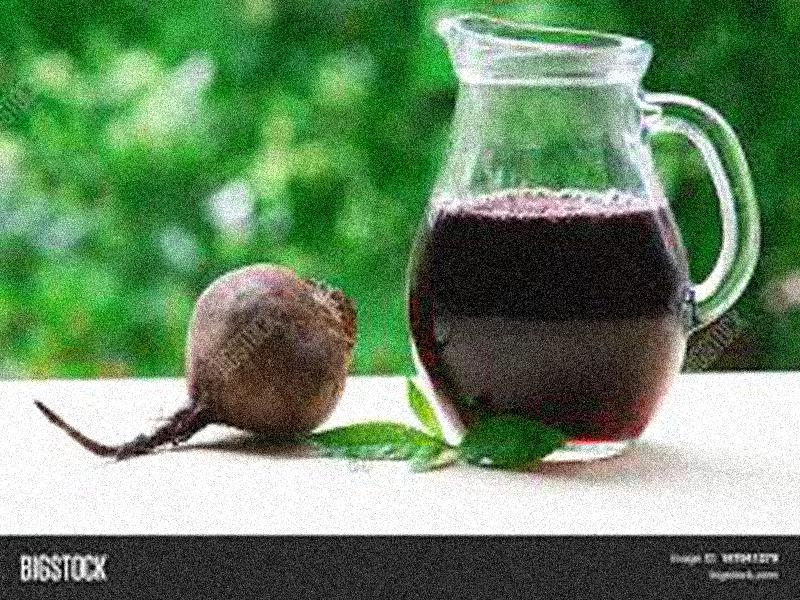Beet: (37, 266, 354, 461)
